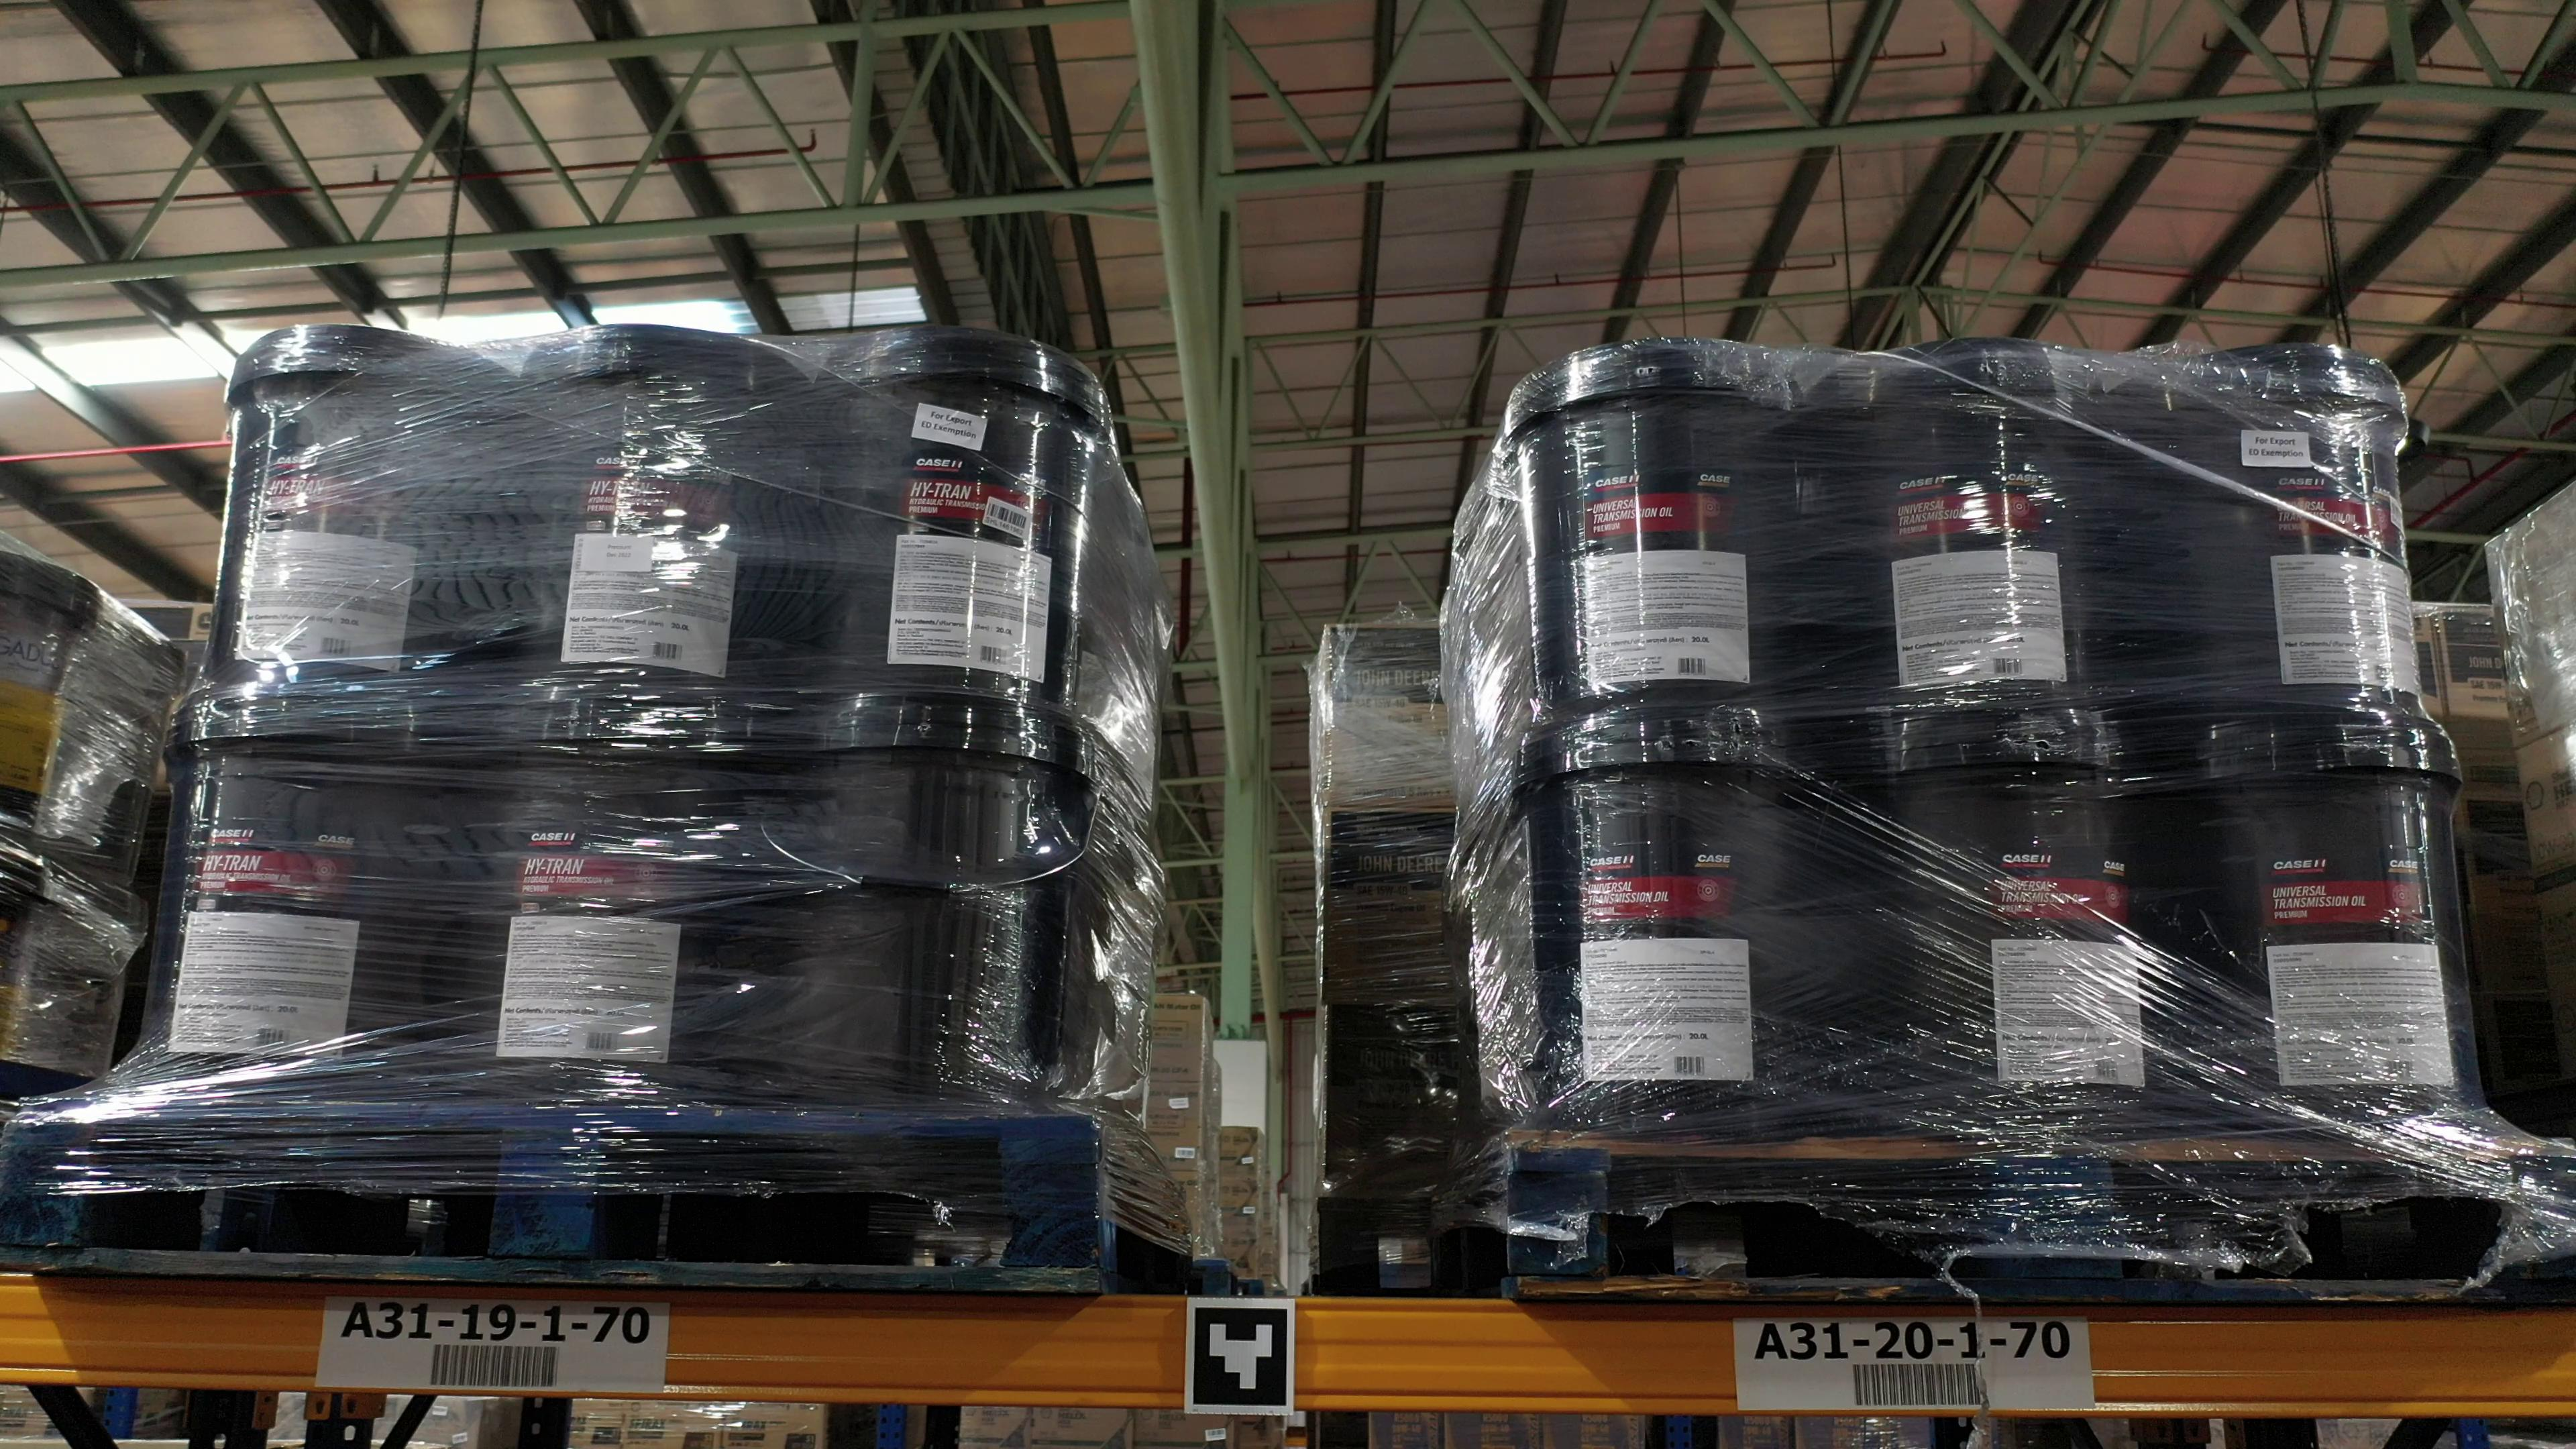-: (1523, 711, 1845, 1138), (2185, 697, 2489, 1141), (138, 688, 460, 1102), (789, 701, 1104, 1118), (1858, 704, 2162, 1134), (460, 681, 763, 1109), (1509, 336, 1815, 734), (490, 324, 800, 704), (1836, 331, 2120, 729), (203, 324, 499, 701), (830, 327, 1102, 713), (2153, 345, 2431, 713)
box: (1323, 810, 1468, 1016), (1323, 1016, 1481, 1198), (1325, 621, 1458, 810)
